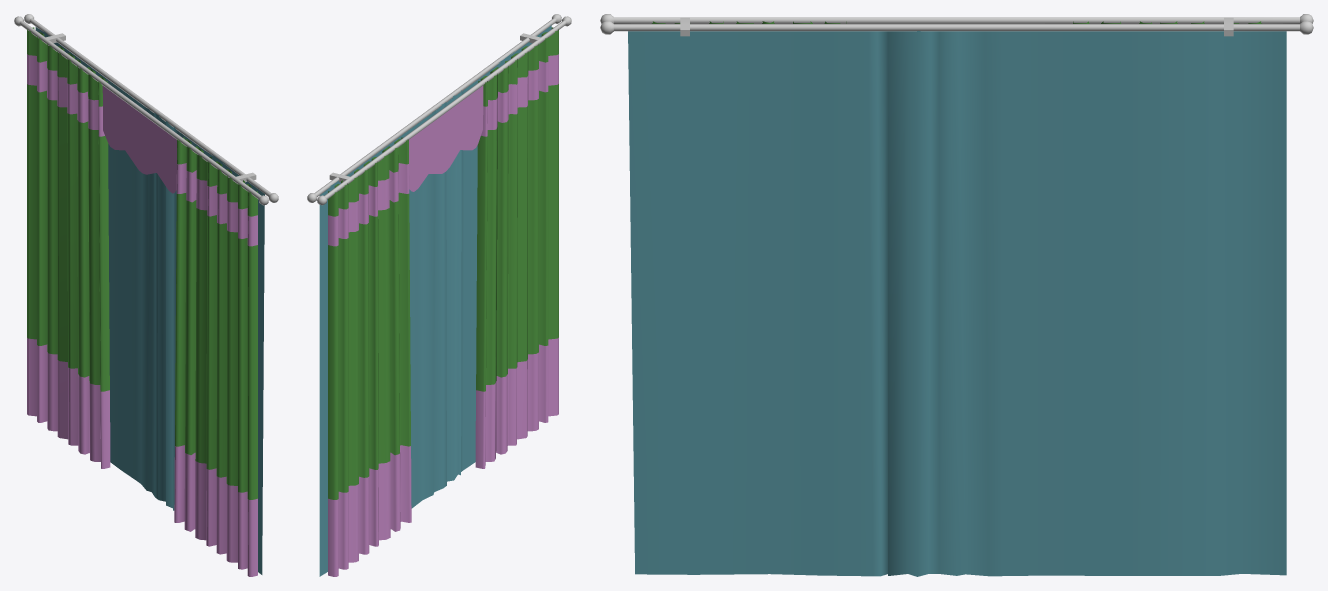
Rendered from CLOU01.FBX.
3 renders of one model, left to right at view 1: azimuth 30°, elevation 25°; view 2: azimuth 150°, elevation 25°; view 3: azimuth 270°, elevation 25°, orthographic. The views are drawn at different scales.
Visible parts, largest first — view 1: CLOU01; view 2: CLOU01; view 3: CLOU01.
Part boxes in pixels (x1=…): CLOU01: x1=14, y1=14, x2=278, y2=576; CLOU01: x1=307, y1=14, x2=571, y2=576; CLOU01: x1=600, y1=14, x2=1313, y2=576.
Bounding box in the file's own units: 14.36 × 280 × 240.
